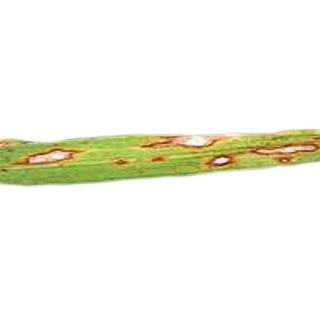Blast: (8, 138, 78, 177), (143, 129, 233, 153), (250, 136, 317, 164), (204, 144, 242, 174), (111, 157, 191, 168)
